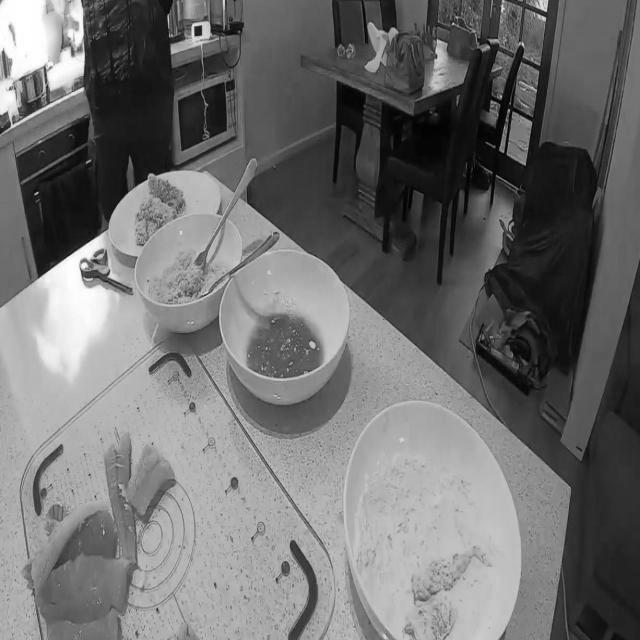smoke: (0, 0, 54, 79), (64, 2, 86, 53)
